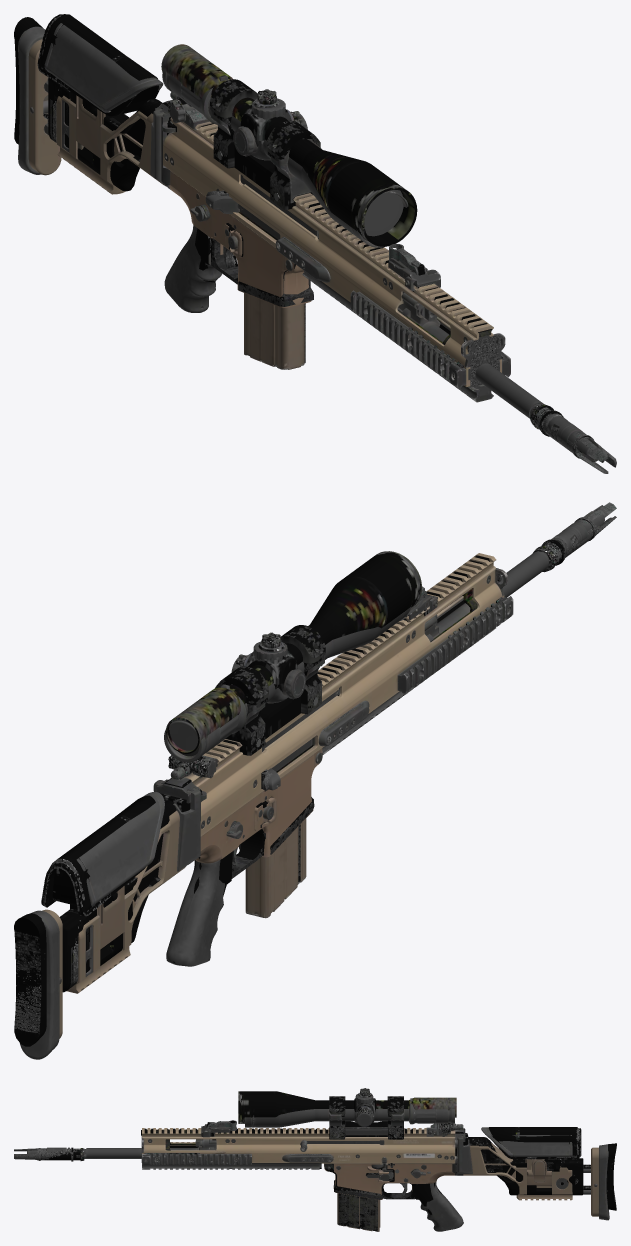
3 views of the same model, one above another, from view 1: azimuth 30°, elevation 25°; view 2: azimuth 150°, elevation 25°; view 3: azimuth 270°, elevation 25° (orthographic). The views are drawn at different scales.
Visible parts, largest first — view 1: weapons\models\scar20\weapon_snip_scar20.vmdl_c.body_hd, weapons\models\scar20\weapon_snip_scar20.vmdl_c.body_legacy; view 2: weapons\models\scar20\weapon_snip_scar20.vmdl_c.body_hd, weapons\models\scar20\weapon_snip_scar20.vmdl_c.body_legacy; view 3: weapons\models\scar20\weapon_snip_scar20.vmdl_c.body_hd, weapons\models\scar20\weapon_snip_scar20.vmdl_c.body_legacy.
Part boxes in pixels (box(x1,y1,x2,y2)): weapons\models\scar20\weapon_snip_scar20.vmdl_c.body_hd: box(18, 23, 602, 462); weapons\models\scar20\weapon_snip_scar20.vmdl_c.body_legacy: box(14, 14, 616, 473); weapons\models\scar20\weapon_snip_scar20.vmdl_c.body_hd: box(20, 511, 604, 1059); weapons\models\scar20\weapon_snip_scar20.vmdl_c.body_legacy: box(14, 502, 616, 1046); weapons\models\scar20\weapon_snip_scar20.vmdl_c.body_hd: box(27, 1094, 609, 1231); weapons\models\scar20\weapon_snip_scar20.vmdl_c.body_legacy: box(14, 1088, 616, 1231).
Size of the model in its own units: 0.0763 by 0.2851 by 1.12.
3 materials, 2 textured.
